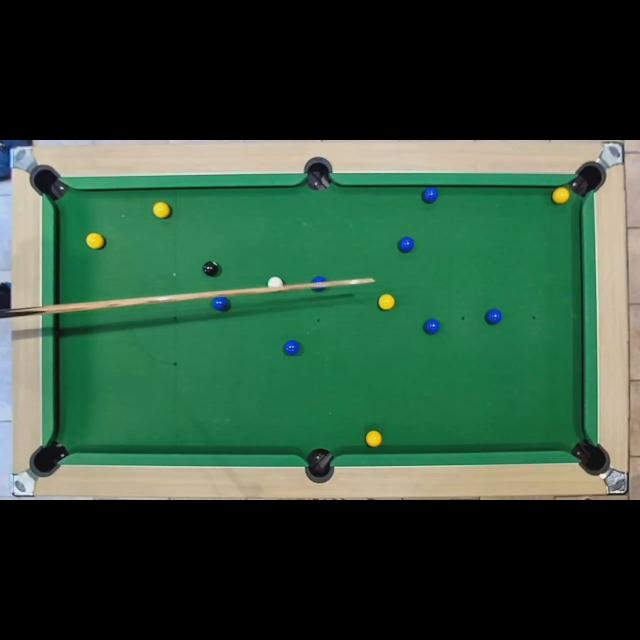Ball: (86, 233, 104, 249), (153, 202, 170, 218), (202, 260, 218, 276), (423, 187, 439, 203), (311, 276, 327, 292), (553, 187, 569, 203), (424, 319, 440, 335), (365, 431, 381, 447), (486, 309, 502, 325), (284, 340, 300, 356), (378, 294, 394, 310), (268, 276, 284, 292), (398, 237, 414, 253), (212, 296, 226, 312)
